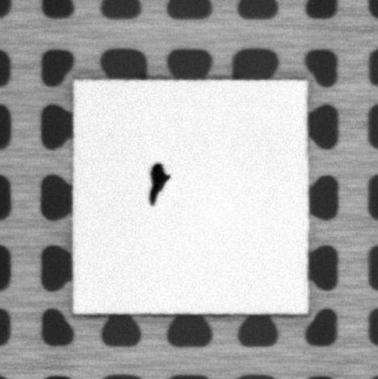DIE_INK: (147, 162, 171, 206)
